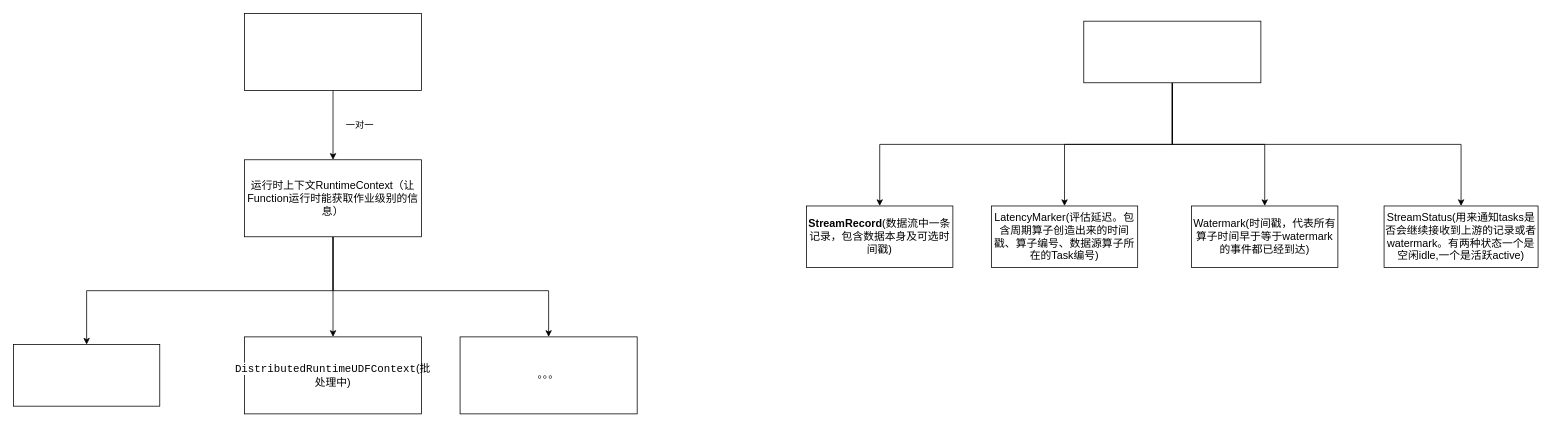
Image size: 1552x427. Some labels were removed from this diagram. Each missing label, with the centre of its shape:
"3.2 StreamElement数据流元素抽象类（执行时序列化为二进制，反序列化为对应类型）" belongs at point 1172,51.
"RichFunction接口" belongs at point 333,51.
"StreamingRuntimeContext(流计算中)" belongs at point 86,375.
